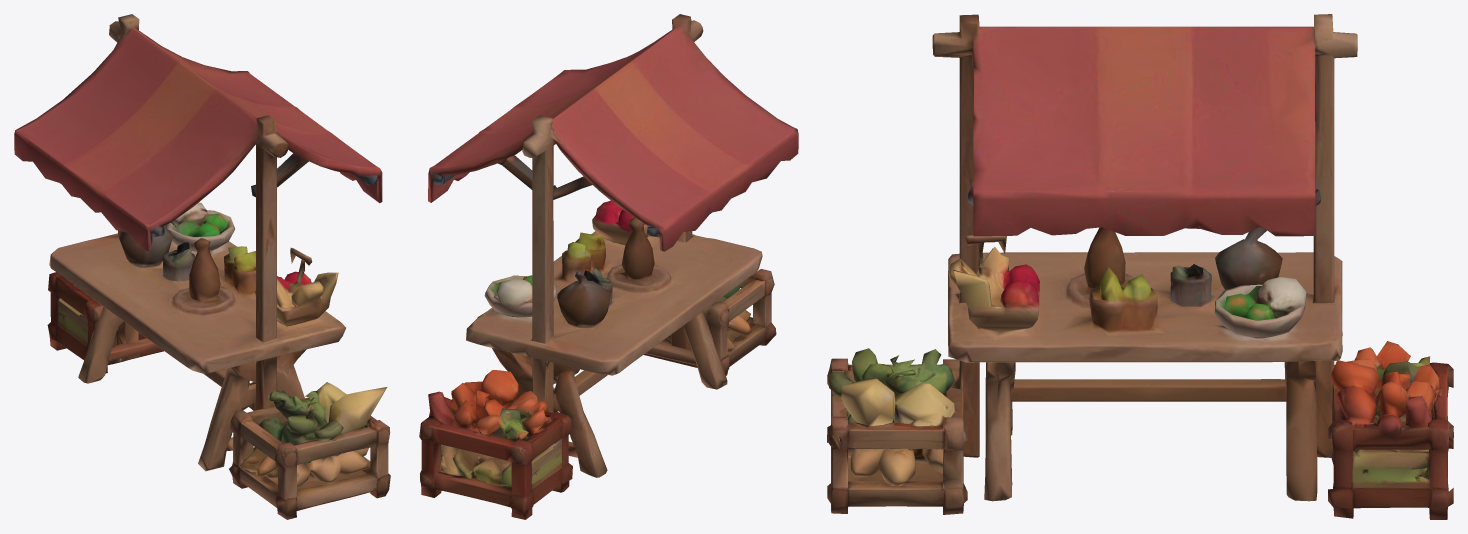
Rendered from marketstall.glb.
3 views of the same model, side by side, from view 1: azimuth 30°, elevation 25°; view 2: azimuth 150°, elevation 25°; view 3: azimuth 270°, elevation 25° (orthographic). The views are drawn at different scales.
Visible parts, largest first — view 1: MarketstallBody; view 2: MarketstallBody; view 3: MarketstallBody.
Boxes of the visible parts, x1=… form: MarketstallBody: x1=14, y1=14, x2=390, y2=519; MarketstallBody: x1=419, y1=14, x2=798, y2=519; MarketstallBody: x1=827, y1=14, x2=1453, y2=519.
Size of the model in its own units: 1.56 by 2.25 by 2.8.
1 material, 1 textured.
